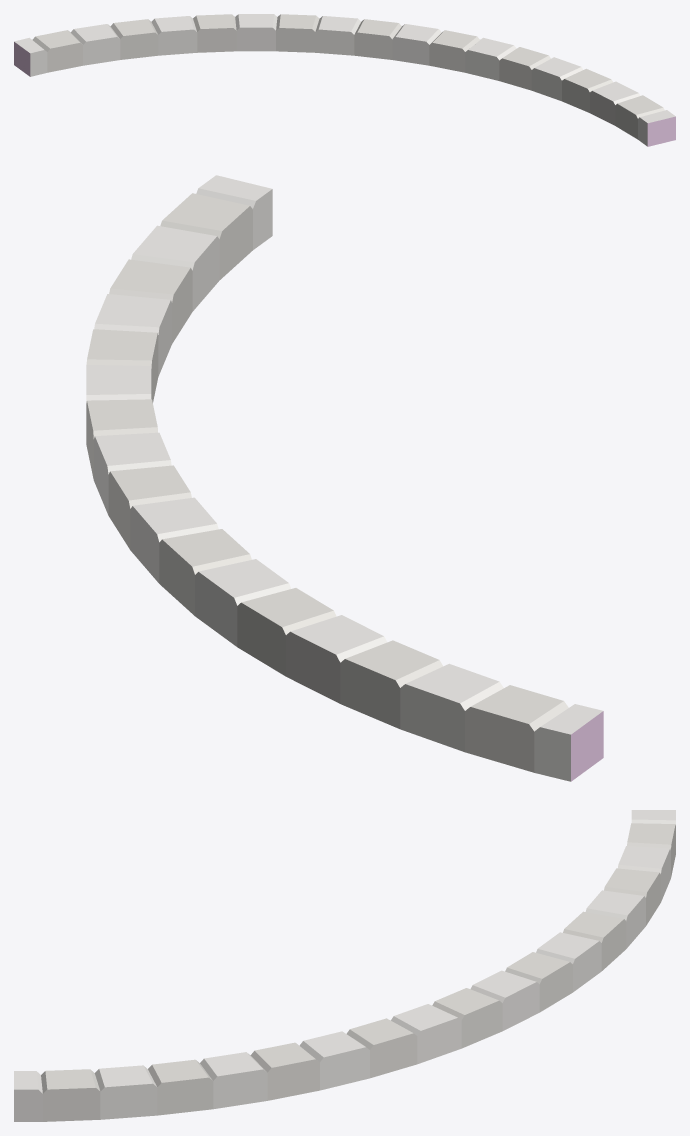
File: Path_Edging_Stones_Curve_5x5.glb
The picture shows the model from 3 angles, top to bottom: view 1: azimuth 30°, elevation 25°; view 2: azimuth 150°, elevation 25°; view 3: azimuth 270°, elevation 25°; orthographic projection. The views are drawn at different scales.
Visible parts, largest first — view 1: Path_Edging_Stones_Curve_5x5; view 2: Path_Edging_Stones_Curve_5x5; view 3: Path_Edging_Stones_Curve_5x5.
Part boxes in pixels (<box>): Path_Edging_Stones_Curve_5x5: <box>14,14,675,146</box>; Path_Edging_Stones_Curve_5x5: <box>86,175,603,781</box>; Path_Edging_Stones_Curve_5x5: <box>14,810,675,1121</box>.
Size of the model in its own units: 466 by 25 by 466.
